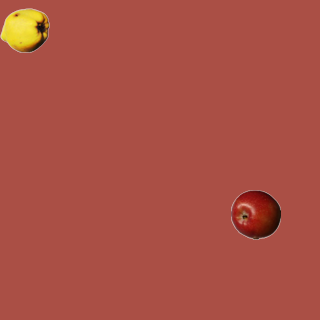Apple Braeburn: (230, 189, 280, 239)
Quince: (0, 5, 49, 55)
